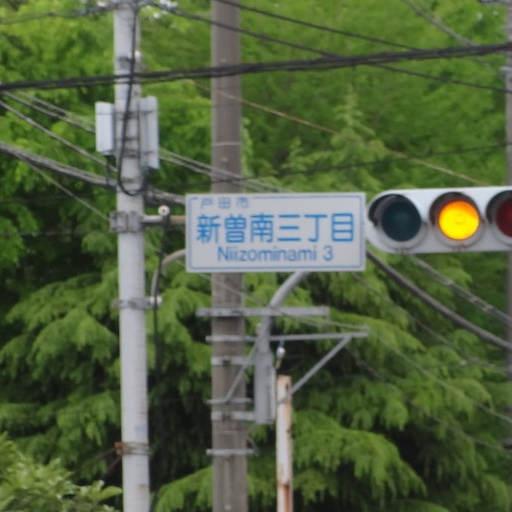Traffic_Signal_Yellow: (362, 182, 507, 253)
